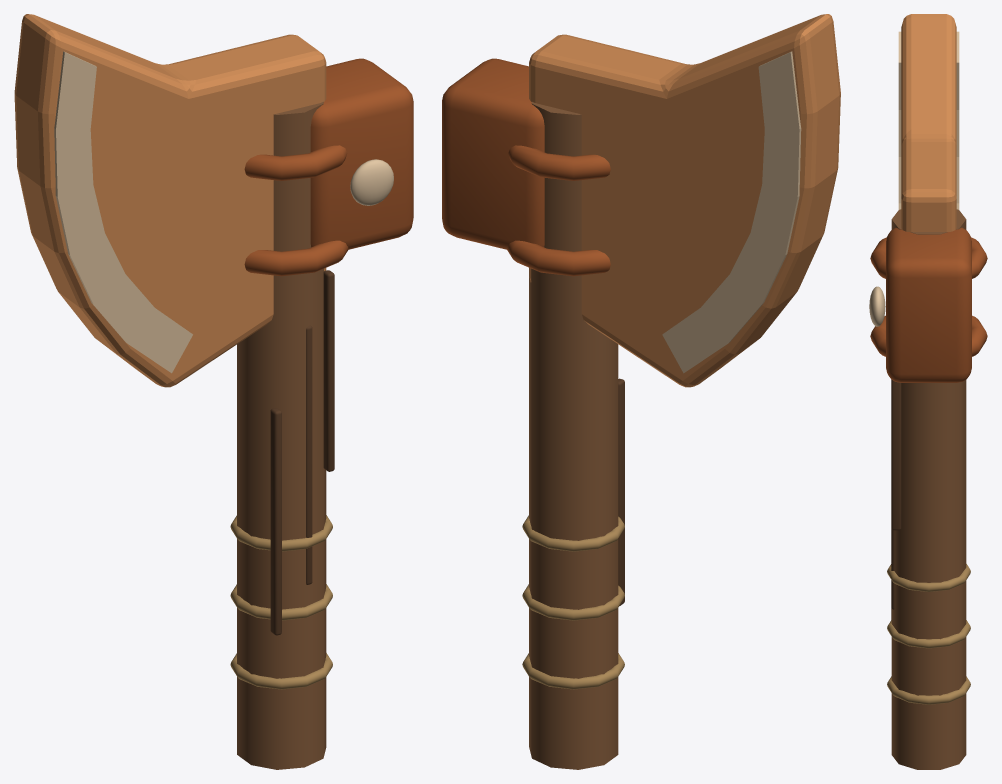
File: axe2.glb
3 renders of one model, left to right at view 1: azimuth 30°, elevation 25°; view 2: azimuth 150°, elevation 25°; view 3: azimuth 270°, elevation 25°, orthographic. The views are drawn at different scales.
Parts seen in each view (by area): view 1: _box.003, _box; view 2: _box.003, _box; view 3: _box, _box.003.
Boxes of the visible parts, left/top/right/bottom form: _box.003: left=14, top=14, right=413, bottom=387; _box: left=230, top=101, right=334, bottom=769; _box.003: left=442, top=14, right=840, bottom=387; _box: left=522, top=101, right=624, bottom=769; _box: left=887, top=209, right=970, bottom=769; _box.003: left=869, top=14, right=987, bottom=382.
Bounding box in the file's own units: 0.446 × 0.9142 × 0.1521.
